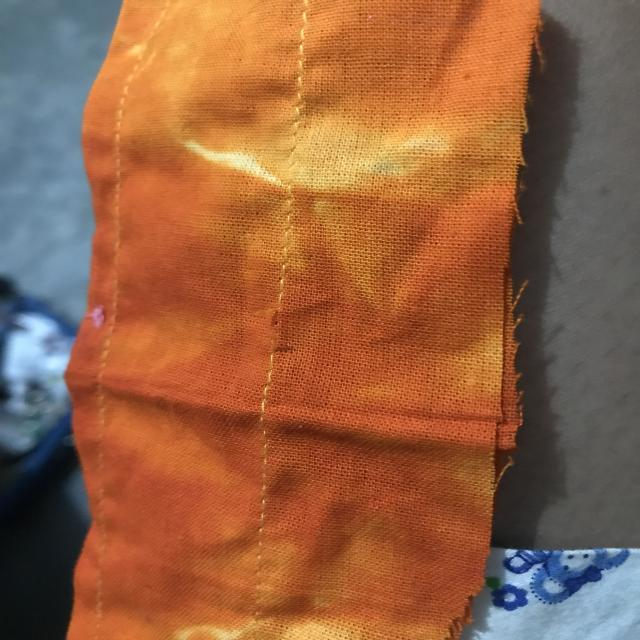broken: (247, 284, 292, 362)
